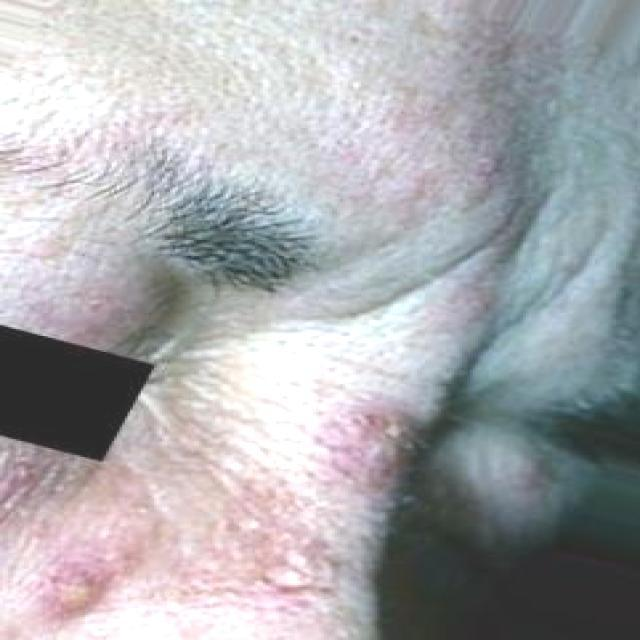Rosacea: (29, 479, 331, 626), (306, 399, 416, 489)
